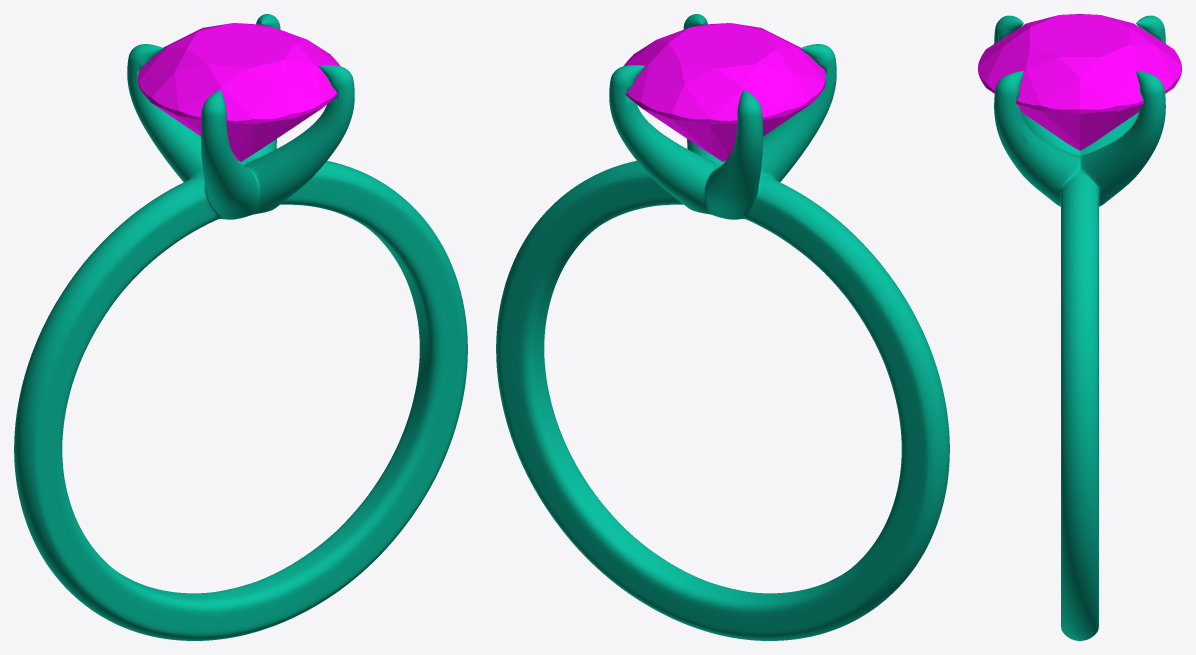
Rendered from BE1FM199_RD_200ct_RENDER.glb.
3 renders of one model, left to right at view 1: azimuth 30°, elevation 25°; view 2: azimuth 150°, elevation 25°; view 3: azimuth 270°, elevation 25°, orthographic.
Visible parts, largest first — view 1: Metal 01, CS_Diamond_Round; view 2: Metal 01, CS_Diamond_Round; view 3: Metal 01, CS_Diamond_Round.
Boxes of the visible parts, x1=… form: Metal 01: x1=14, y1=14, x2=467, y2=640; CS_Diamond_Round: x1=138, y1=23, x2=340, y2=161; Metal 01: x1=496, y1=14, x2=949, y2=640; CS_Diamond_Round: x1=623, y1=23, x2=825, y2=161; Metal 01: x1=994, y1=15, x2=1165, y2=640; CS_Diamond_Round: x1=978, y1=14, x2=1181, y2=150.
Size of the model in its own units: 20.09 by 25.17 by 8.
